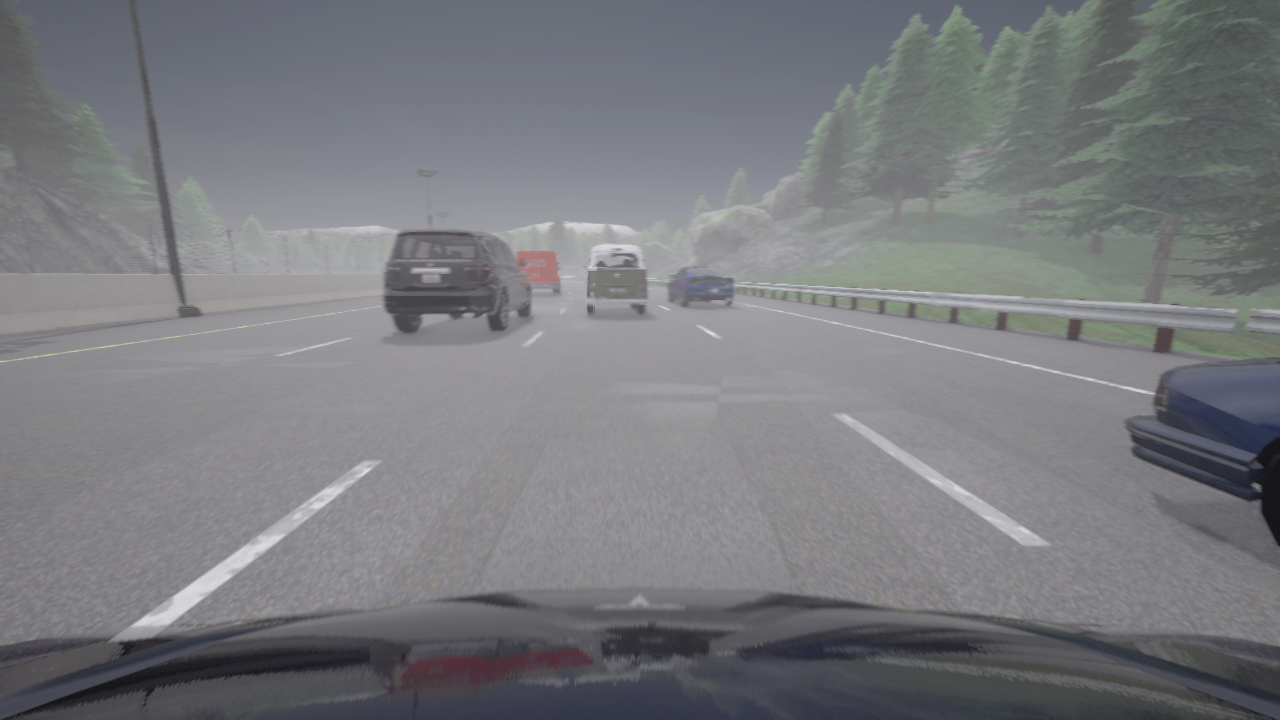cyclist: (0, 588, 1279, 719), (1124, 358, 1279, 547), (384, 230, 531, 332), (583, 244, 647, 314), (668, 265, 735, 306), (517, 251, 561, 293)
